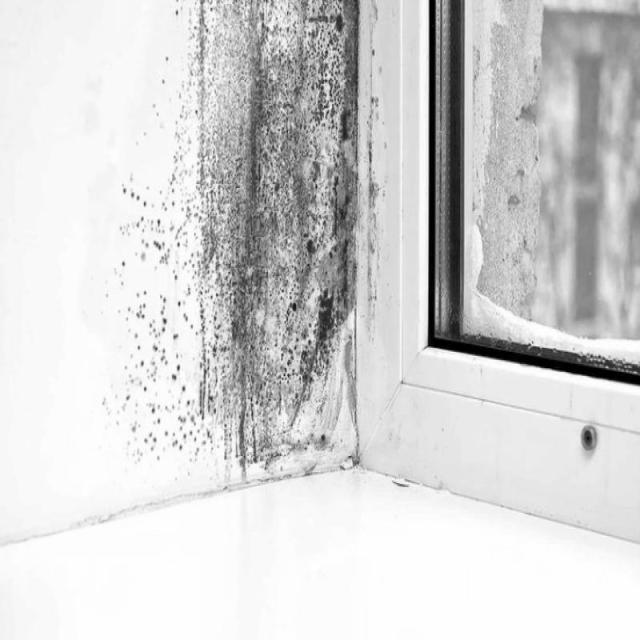stain marks: (89, 0, 426, 502)
